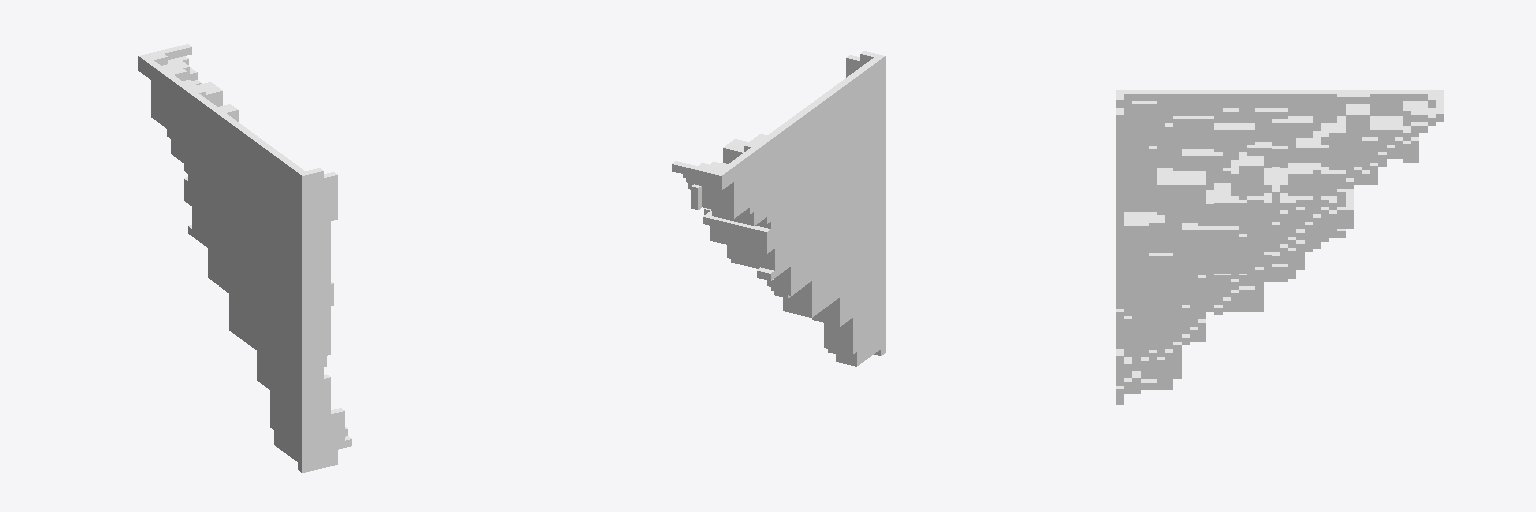
Rendered from finalwall3.obj.
The picture shows the model from 3 angles: view 1: azimuth 30°, elevation 25°; view 2: azimuth 150°, elevation 25°; view 3: azimuth 270°, elevation 25°; orthographic projection.
Parts seen in each view (by area): view 1: finalwall3; view 2: finalwall3; view 3: finalwall3.
Part boxes in pixels (x1,y1,x2,y2): finalwall3: (138,44,351,472); finalwall3: (672,51,885,366); finalwall3: (1116,90,1443,404).
Bounding box in the file's own units: 10 × 40 × 40.